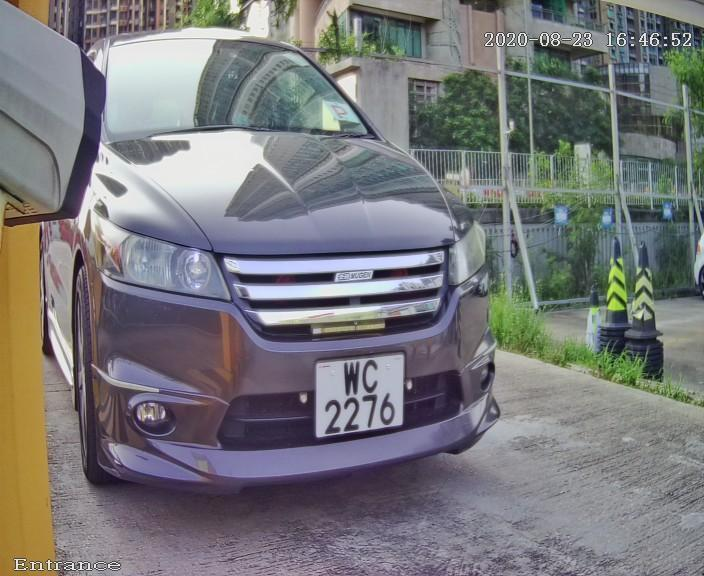Car: (19, 1, 541, 543)
License Plate: (280, 321, 428, 468)
